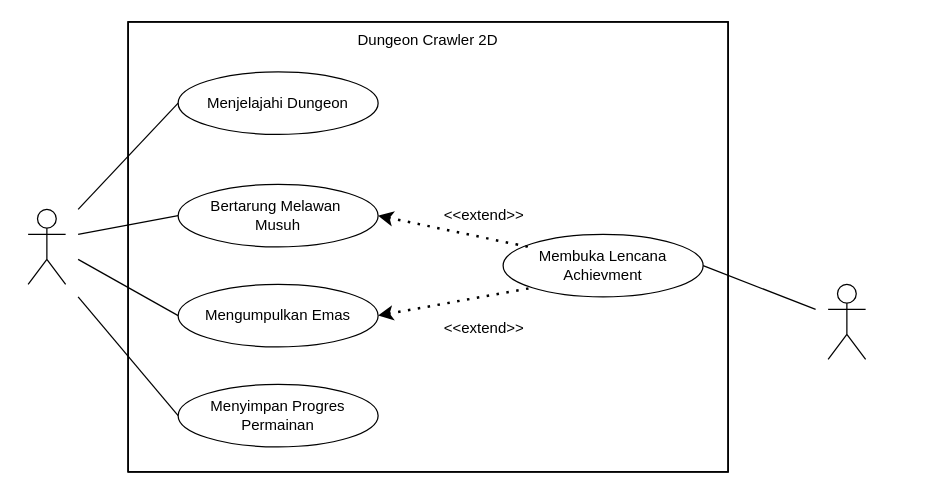
This 933x494 diagram has some shape labels left out. The shapes that lost their labels are listed below. From the top down, each one's box as (x1, y1, x2, y2) in pixels, then its label:
(27, 208, 66, 284): Pemain
(827, 283, 866, 359): Sistem Achievment
